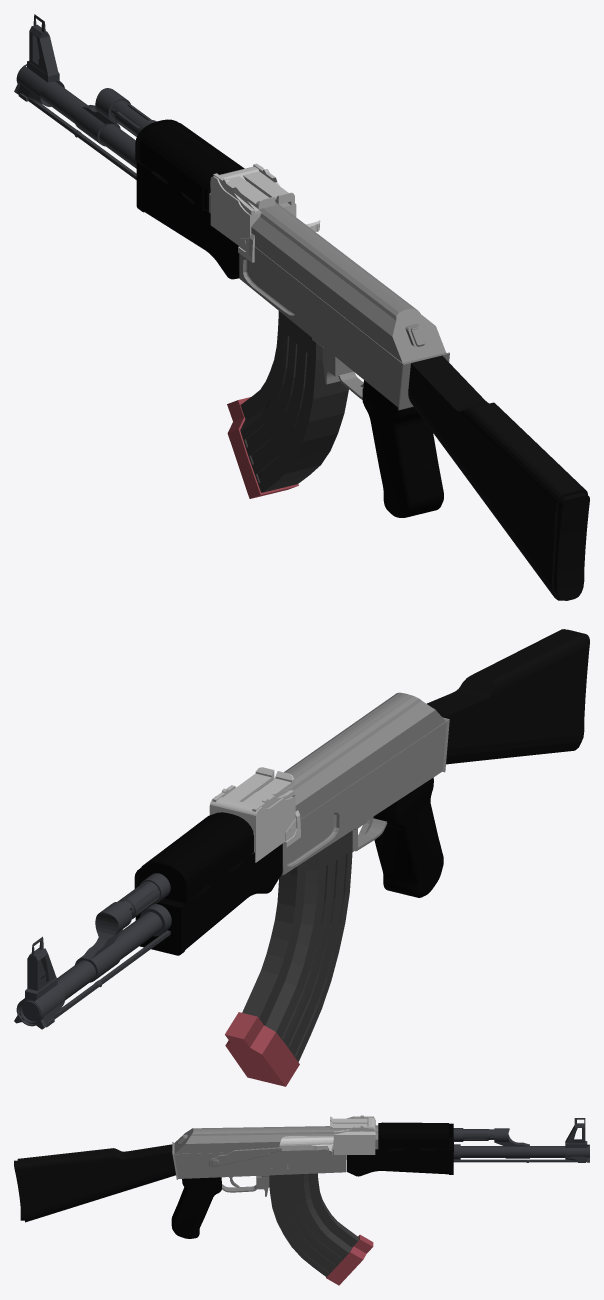
3 renders of one model, top to bottom at view 1: azimuth 30°, elevation 25°; view 2: azimuth 150°, elevation 25°; view 3: azimuth 270°, elevation 25°, orthographic. The views are drawn at different scales.
Visible parts, largest first — view 1: main, Smain1, base, iron 1, support part 2, handle; view 2: main, base, Smain1, iron 1, support part 2, handle; view 3: main, Smain1, base, iron 1, support part 2, handle, ejector.
Part boxes in pixels (x1,y1,x2,y2): main: (209,163,449,410); Smain1: (408,355,589,600); base: (227,311,348,498); iron 1: (135,119,244,279); support part 2: (14,14,156,179); handle: (362,380,443,517); main: (209,692,449,875); base: (225,830,352,1086); Smain1: (427,629,589,764); iron 1: (134,812,282,955); support part 2: (14,873,171,1029); handle: (373,777,443,897); main: (172,1115,378,1196); Smain1: (14,1144,175,1222); base: (269,1173,373,1285); iron 1: (346,1122,453,1176); support part 2: (453,1118,589,1162); handle: (171,1177,221,1238); ejector: (279,1136,333,1155).
Size of the model in its own units: 36.34 by 150 by 483.
